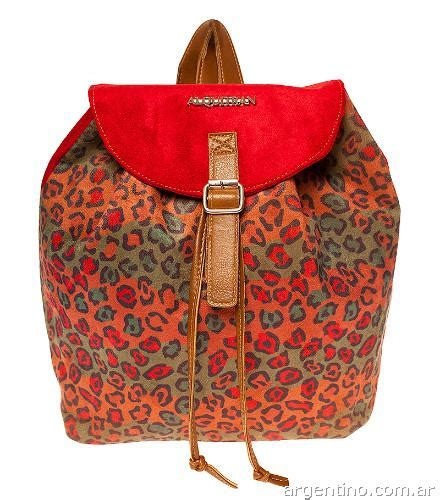gamuza: (90, 83, 345, 196)
